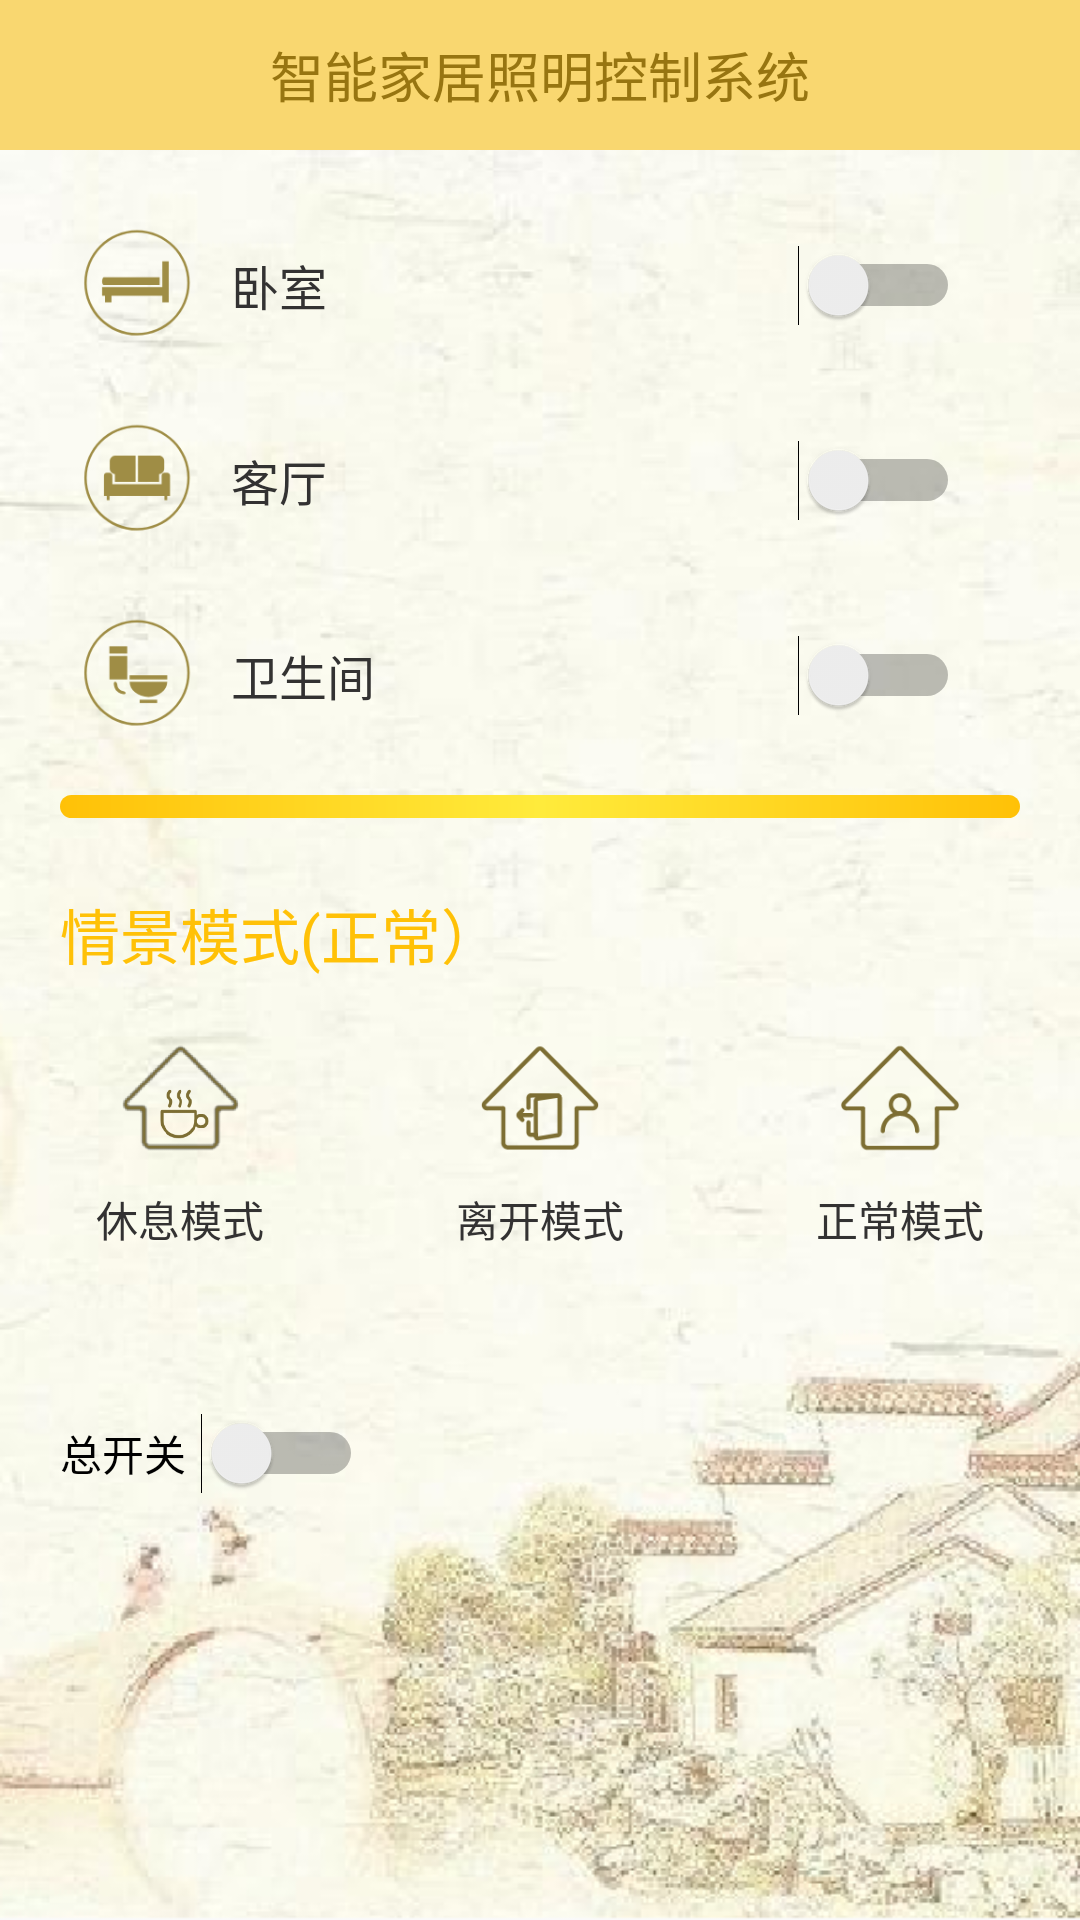

Icon click points for this 1080 × 1920 phone screenshot, format point (x, y):
smartlight bedroom: point (137, 287)
smartlight keting: point (137, 478)
smartlight lijia: point (540, 1098)
smartlight wc: point (137, 670)
smartlight xiuxi: point (180, 1094)
smartlight zaijia: point (900, 1098)
